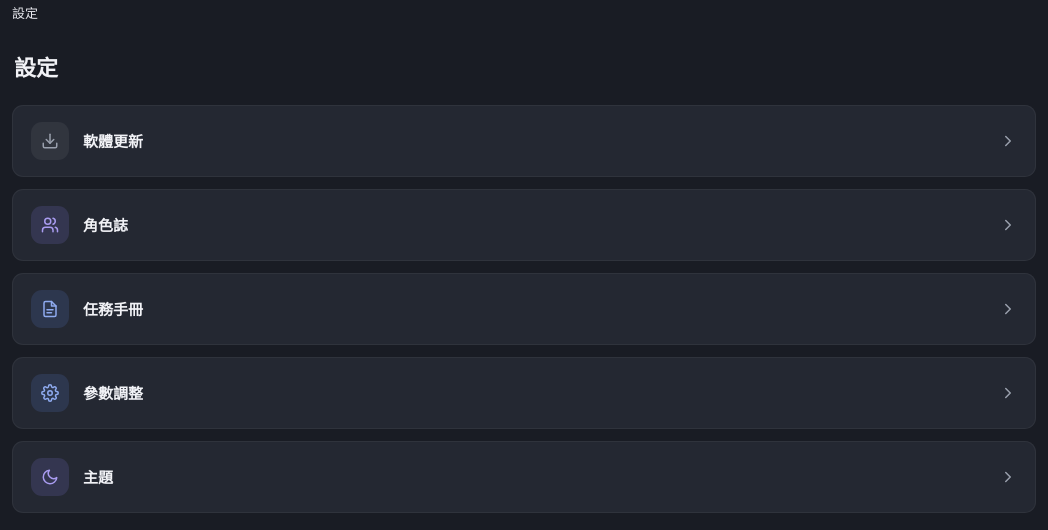
Test case: SettingsPage · 軟體更新 · 檢查更新 (explicit fresh verdict) › update_available also offers the 升級 button — badge and button share one source
Click the button "軟體更新".
click(50, 140)  # box [12, 104, 1036, 176]
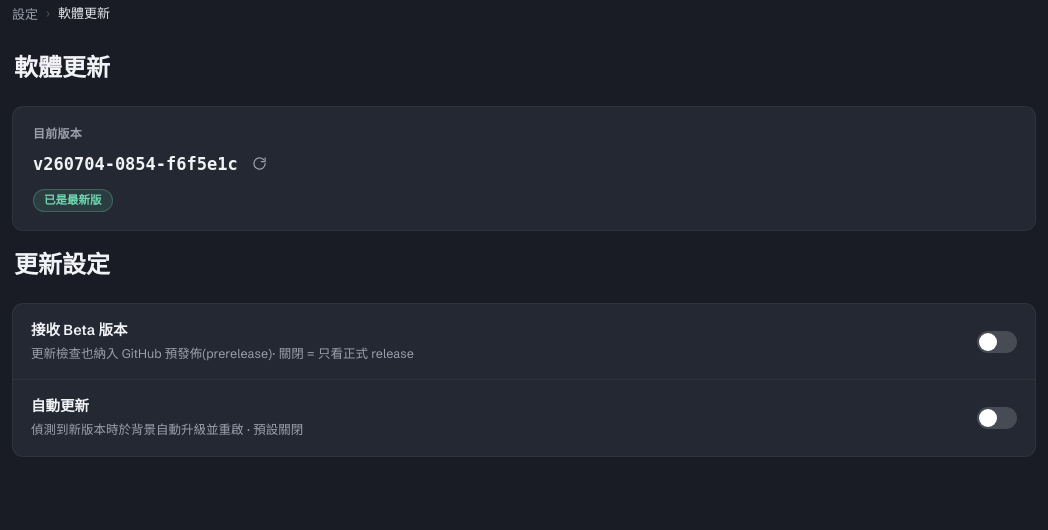
Check: the text "升級到最新版" is not shown
Check: the switch with test id "settings-auto-update" is shown, box [977, 407, 1017, 429]
Click the button with test id "settings-check-release".
click(260, 164)  # box [246, 150, 274, 178]
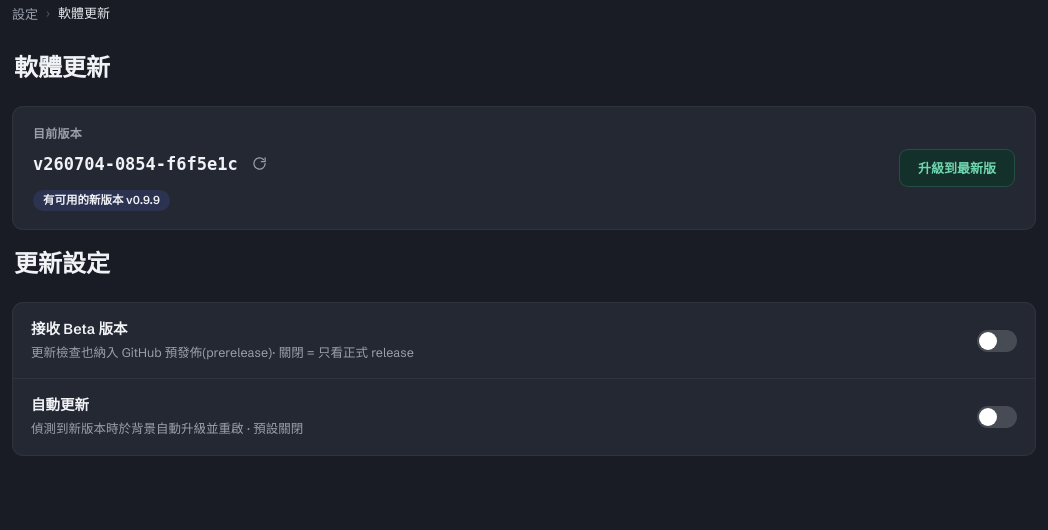
Check: the button "升級到最新版" is shown, box [899, 149, 1015, 187]
